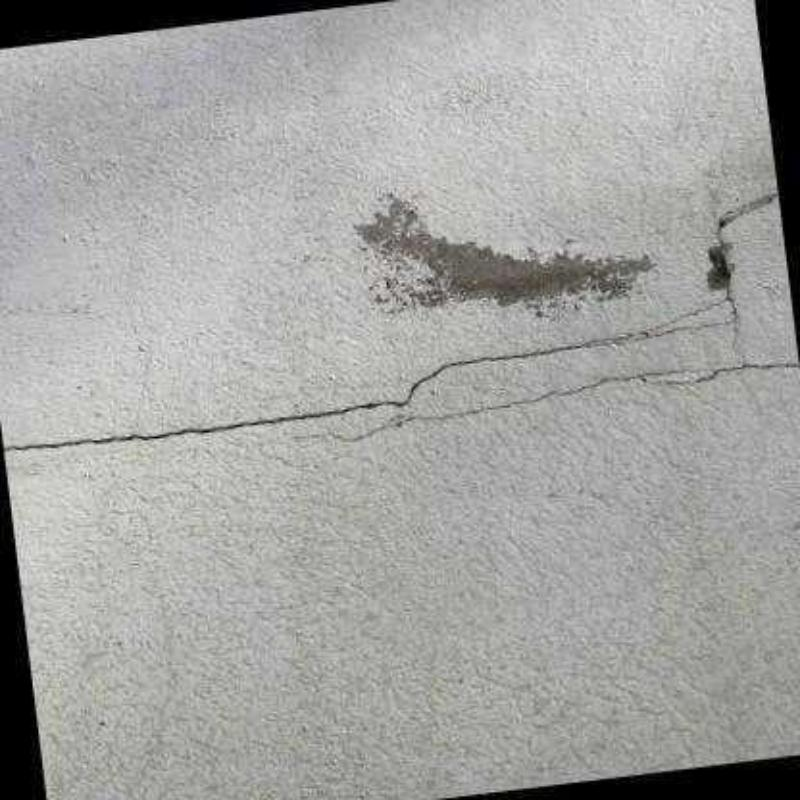crack: (3, 337, 613, 458), (354, 356, 798, 441), (606, 281, 738, 346), (717, 193, 780, 250)
